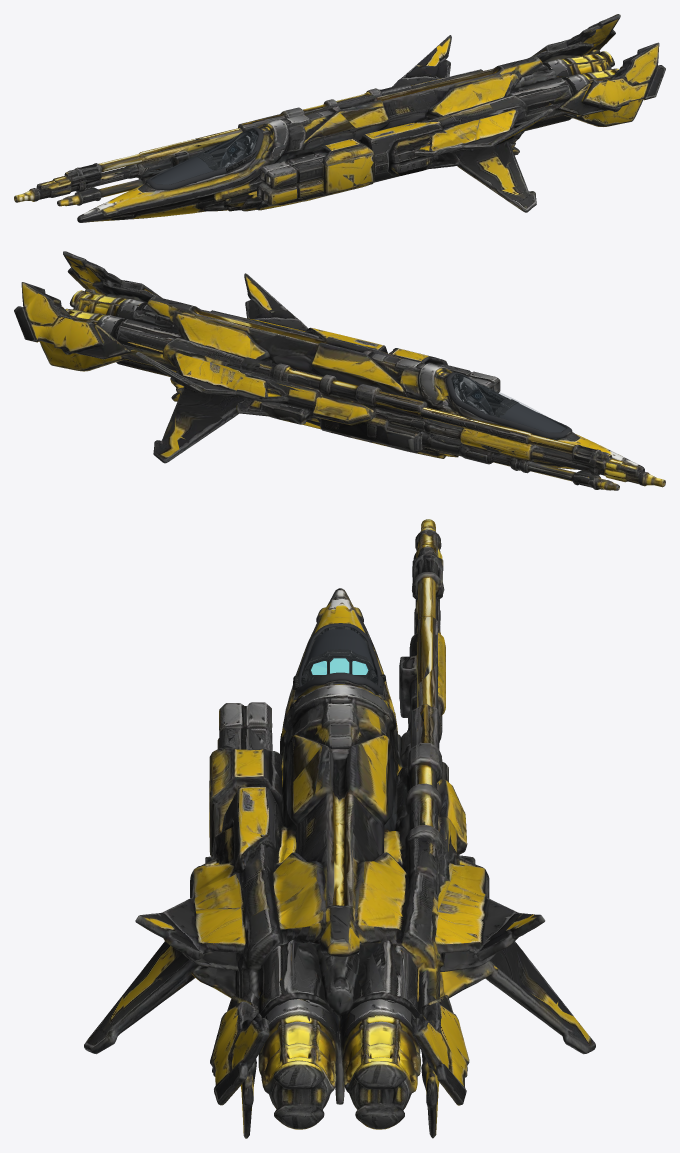
Rendered from puncture.glb.
3 views of the same model, one above another, from view 1: azimuth 30°, elevation 25°; view 2: azimuth 150°, elevation 25°; view 3: azimuth 270°, elevation 25° (orthographic). The views are drawn at different scales.
Visible parts, largest first — view 1: puncture_game_hull, puncture_game_glass, puncture_game_canopy_frame, puncture_game_hood, puncture_game_cockpit; view 2: puncture_game_hull, puncture_game_glass, puncture_game_canopy_frame, puncture_game_hood, puncture_game_cockpit; view 3: puncture_game_hull, puncture_game_glass, puncture_game_console, puncture_game_canopy_frame, puncture_game_hood.
Boxes of the visible parts, x1,y1,x2,y2 form: puncture_game_hull: [14, 14, 665, 222]; puncture_game_glass: [151, 130, 257, 183]; puncture_game_canopy_frame: [145, 127, 263, 190]; puncture_game_hood: [151, 157, 213, 184]; puncture_game_cockpit: [219, 131, 257, 168]; puncture_game_hull: [14, 251, 665, 490]; puncture_game_glass: [452, 374, 565, 431]; puncture_game_canopy_frame: [446, 372, 572, 438]; puncture_game_hood: [500, 403, 565, 432]; puncture_game_cockpit: [452, 376, 494, 415]; puncture_game_hull: [84, 519, 595, 1138]; puncture_game_glass: [302, 626, 377, 684]; puncture_game_console: [302, 649, 377, 684]; puncture_game_canopy_frame: [295, 623, 383, 696]; puncture_game_hood: [304, 629, 374, 670].
Bounding box in the file's own units: 1.91 × 0.2894 × 0.7001.
Materials: 9 (5 with a texture image).
